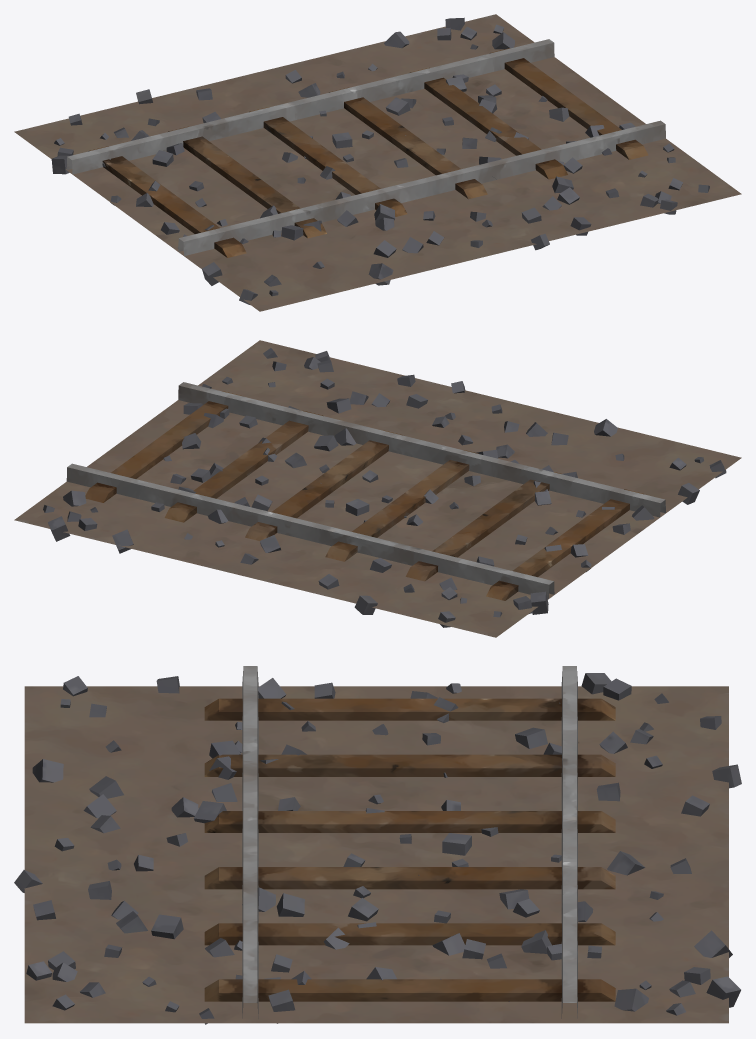
The model's file is RailsA.fbx.
The picture shows the model from 3 angles, top to bottom: view 1: azimuth 30°, elevation 25°; view 2: azimuth 150°, elevation 25°; view 3: azimuth 270°, elevation 25°; orthographic projection. The views are drawn at different scales.
Parts seen in each view (by area): view 1: RailsA; view 2: RailsA; view 3: RailsA.
Boxes of the visible parts, bbox=[...] form: RailsA: bbox=[14, 14, 741, 311]; RailsA: bbox=[14, 340, 741, 637]; RailsA: bbox=[14, 666, 741, 1024].
Size of the model in its own units: 1013 by 53.59 by 913.
